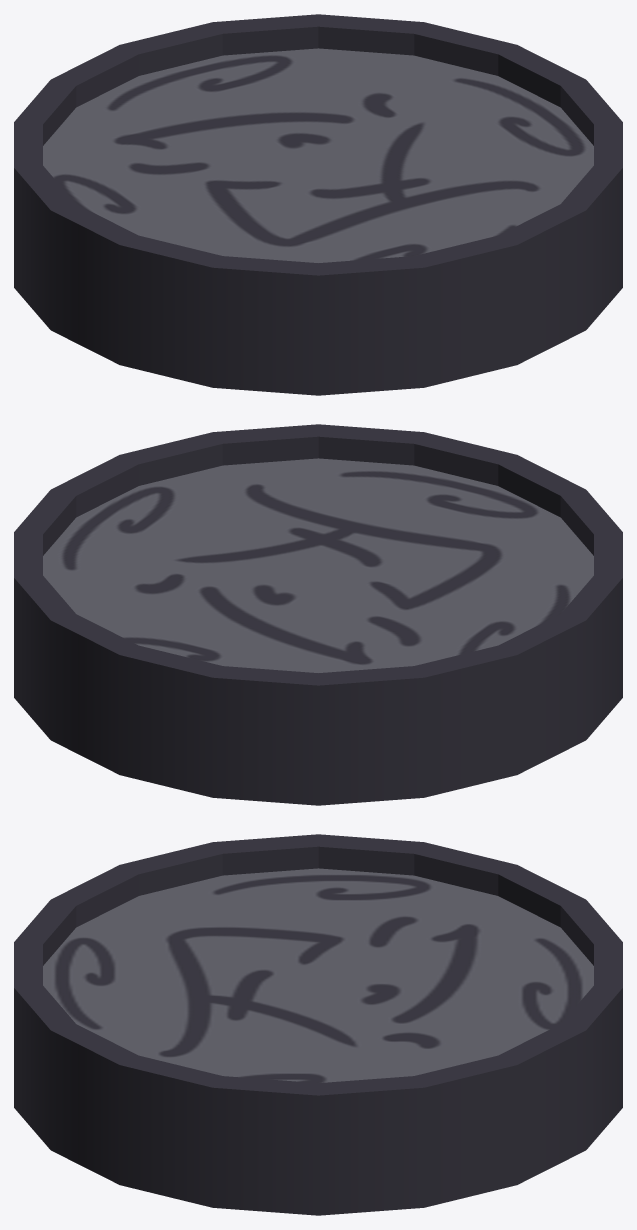
File: UpgradeStealth.FBX
3 views of the same model, one above another, from view 1: azimuth 30°, elevation 25°; view 2: azimuth 150°, elevation 25°; view 3: azimuth 270°, elevation 25° (orthographic).
Visible parts, largest first — view 1: Cylinder001; view 2: Cylinder001; view 3: Cylinder001.
Boxes of the visible parts, x1,y1,x2,y2 form: Cylinder001: [14, 14, 622, 395]; Cylinder001: [14, 424, 622, 805]; Cylinder001: [14, 834, 622, 1215].
Size of the model in its own units: 140 by 30 by 138.
1 material, 1 textured.
